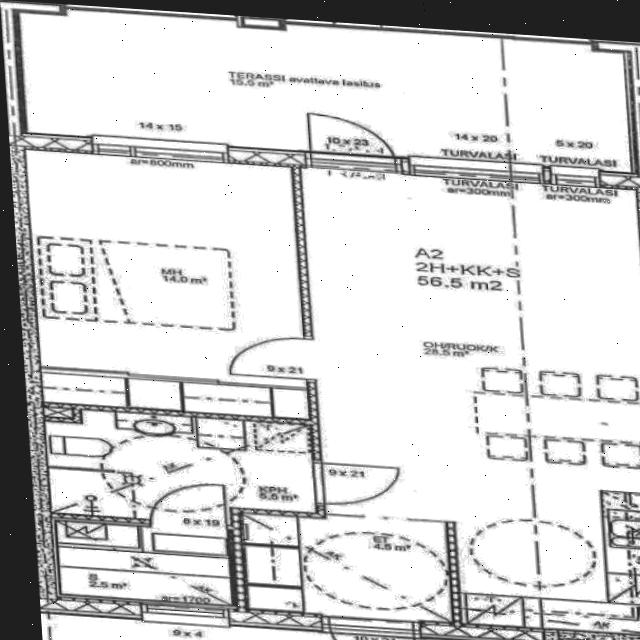room: (11, 13, 639, 173), (12, 150, 320, 385), (40, 408, 321, 530), (52, 521, 236, 605)
